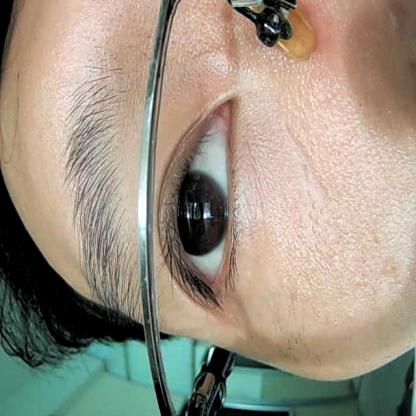Straight: (162, 88, 268, 320)
